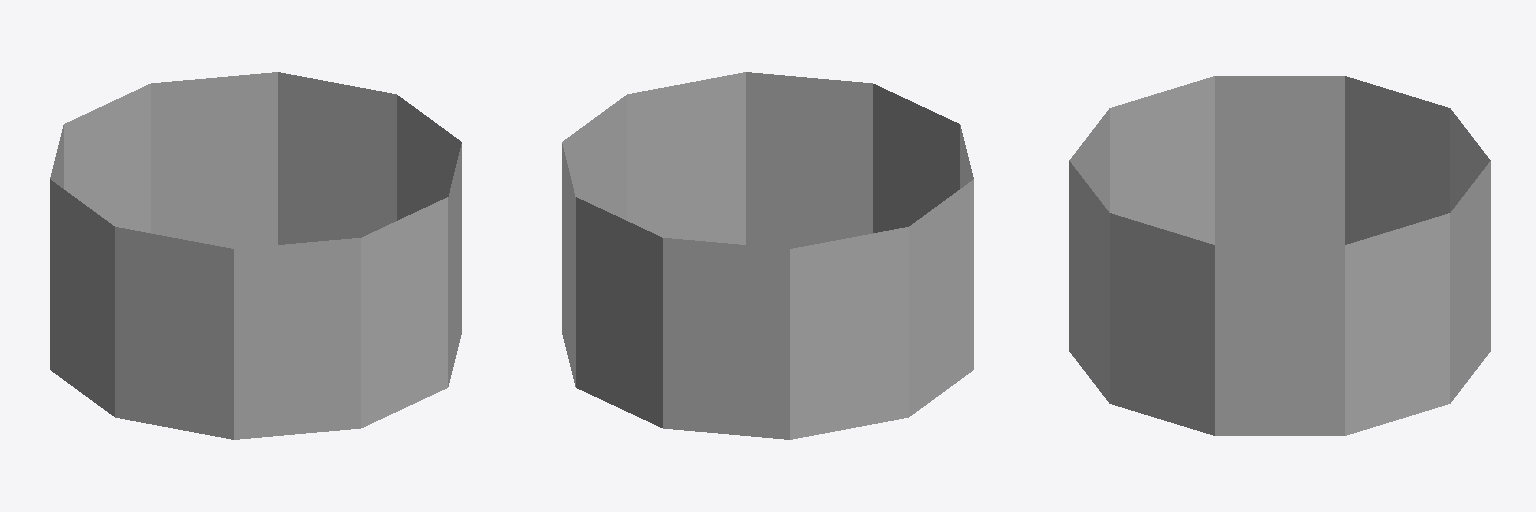
Rendered from vis_lowQ2.obj.
3 views of the same model, side by side, from view 1: azimuth 30°, elevation 25°; view 2: azimuth 150°, elevation 25°; view 3: azimuth 270°, elevation 25° (orthographic).
Visible parts, largest first — view 1: Cylinder; view 2: Cylinder; view 3: Cylinder.
Boxes of the visible parts, <box> form: Cylinder: <box>50,72,461,439</box>; Cylinder: <box>562,72,973,439</box>; Cylinder: <box>1069,76,1490,435</box>.
Bounding box in the file's own units: 1.9 × 1 × 2.